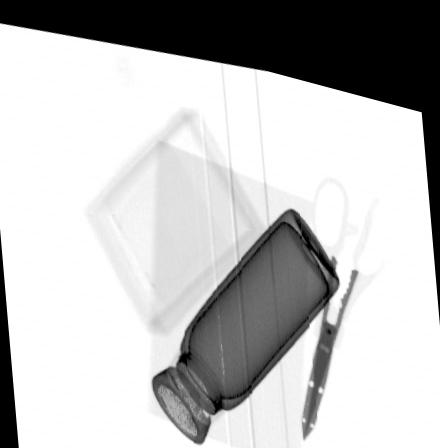Scissors: (302, 156, 398, 423)
